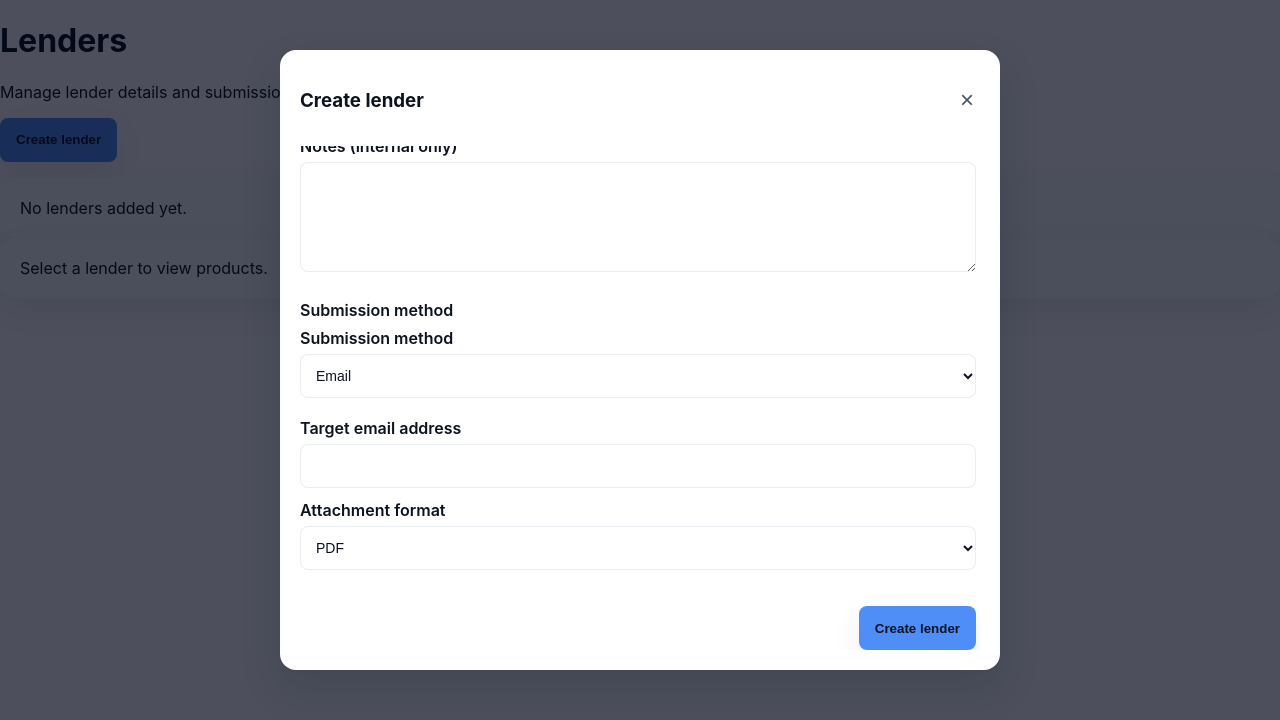
Scenario: lender management flows › displays a form validation error when required fields are missing
(page scrolled)
Click the button "Create lender" at point(917, 628), box [859, 606, 976, 650]
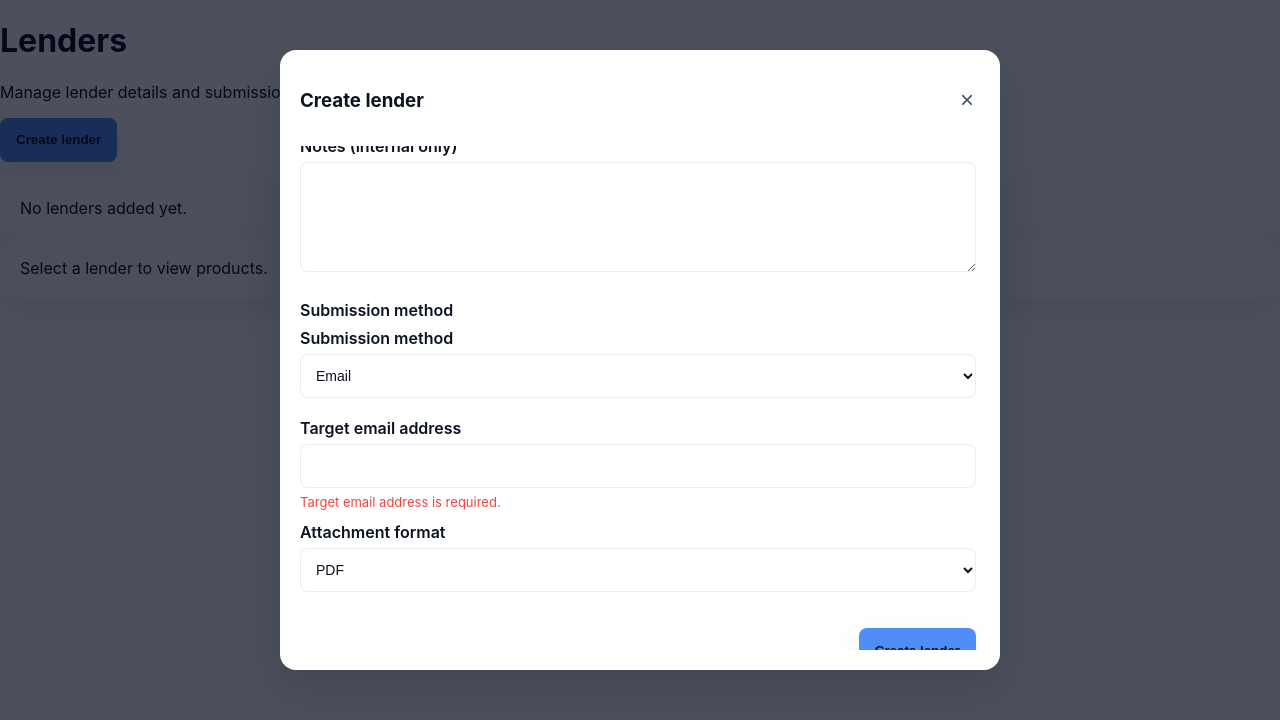
Check: the text "Target email address is required." is shown, box [300, 494, 501, 510]
